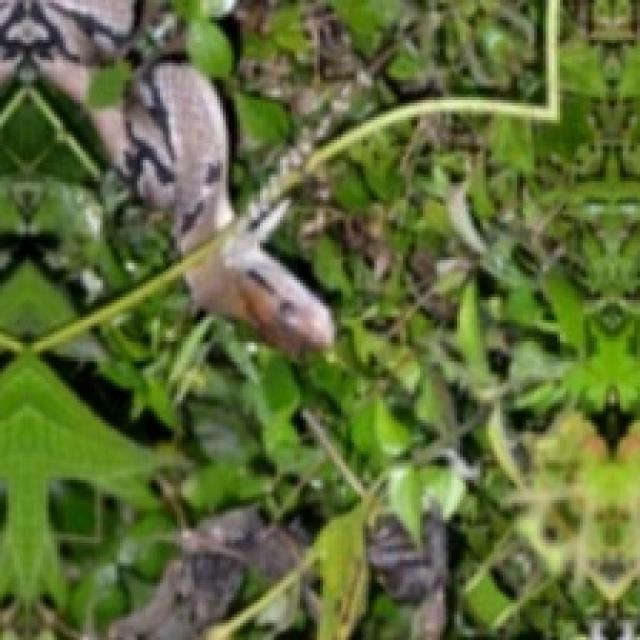dog-toothed cat snake: (0, 0, 231, 251), (186, 229, 331, 351)
